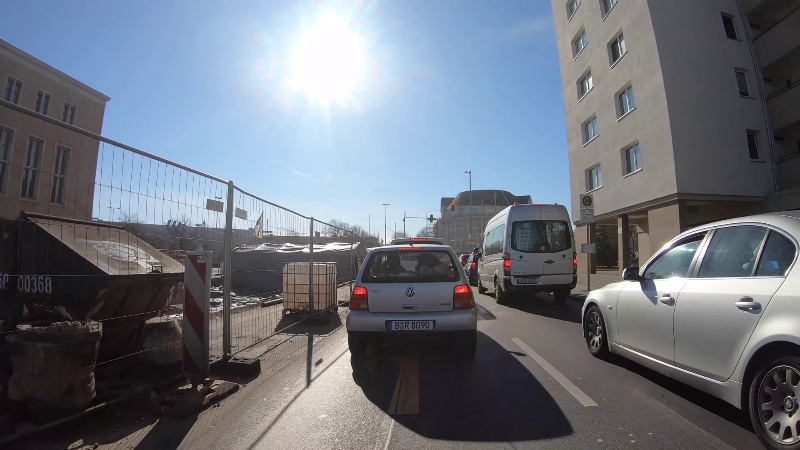Plate: (385, 319, 435, 331), (515, 277, 540, 284)
